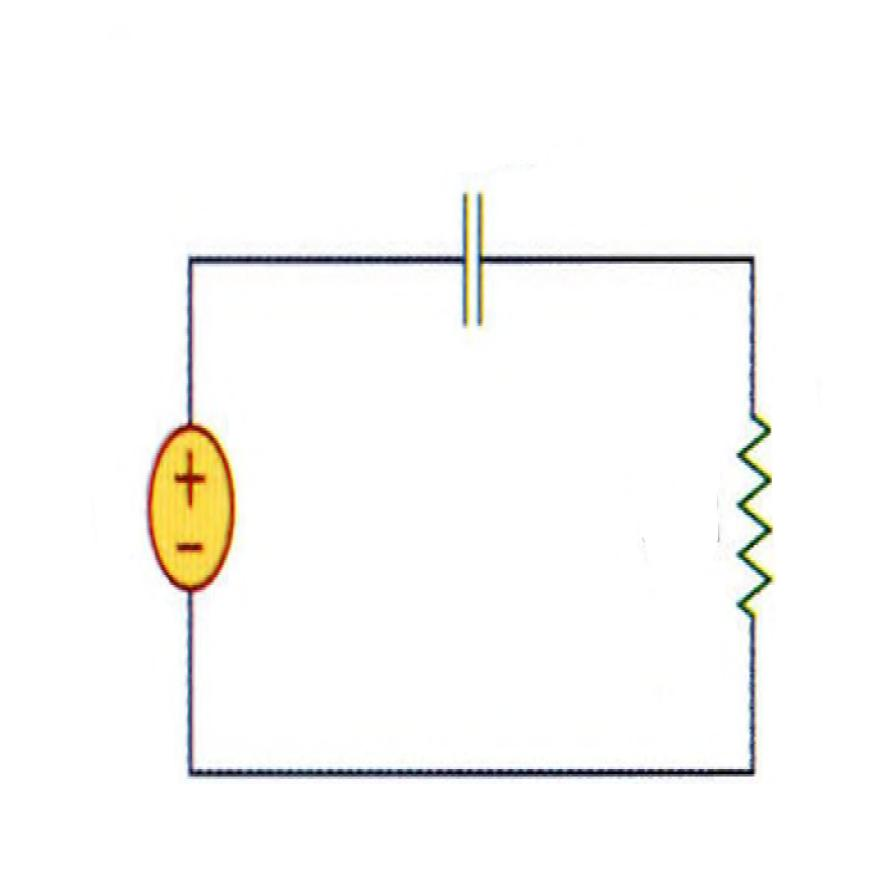C1: (428, 172, 514, 353)
R2: (717, 396, 786, 638)
V1: (134, 420, 244, 608)
